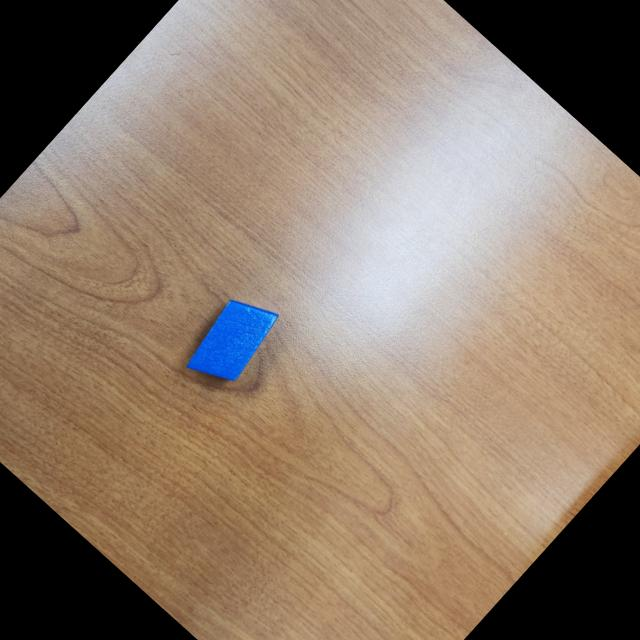blue: (177, 284, 286, 396)
